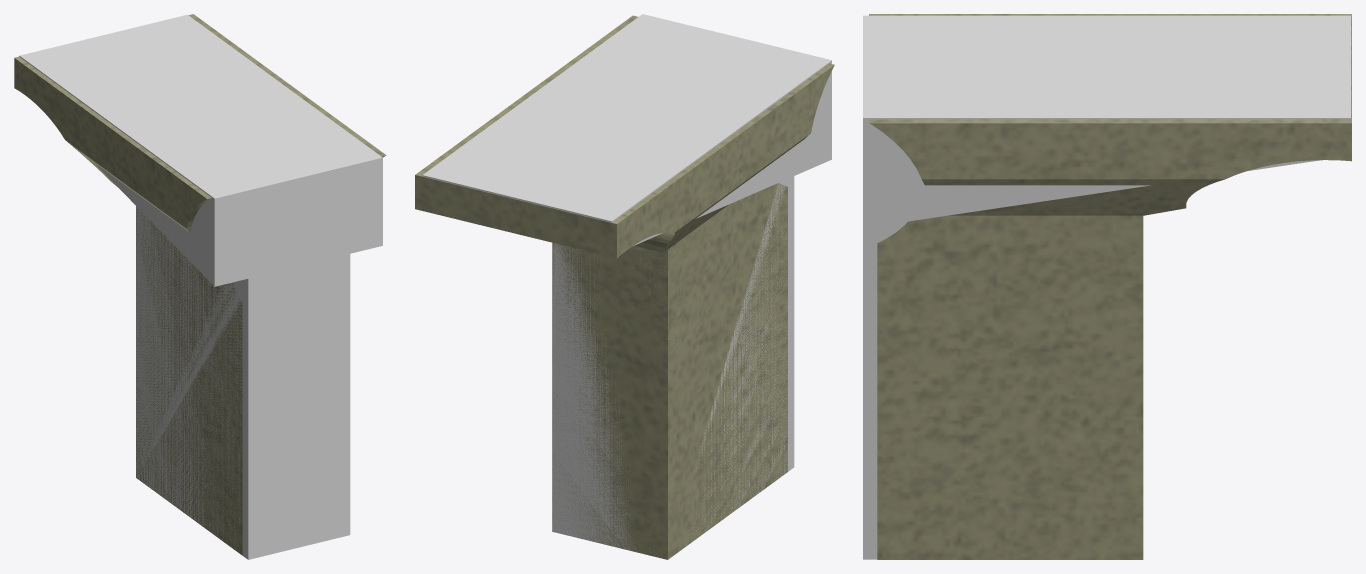
The model's file is OneBreak.gltf.
3 views of the same model, side by side, from view 1: azimuth 30°, elevation 25°; view 2: azimuth 150°, elevation 25°; view 3: azimuth 270°, elevation 25° (orthographic). The views are drawn at different scales.
Parts seen in each view (by area): view 1: COL, Cube; view 2: Cube, COL; view 3: Cube, COL.
Part boxes in pixels (left/top/right/bottom): COL: left=19, top=14, right=382, bottom=559; Cube: left=14, top=14, right=386, bottom=555; Cube: left=415, top=15, right=834, bottom=559; COL: left=422, top=14, right=831, bottom=554; Cube: left=869, top=14, right=1351, bottom=559; COL: left=863, top=15, right=1350, bottom=559.
Size of the model in its own units: 1.85 by 3.63 by 3.49.
Materials: 1 (1 with a texture image).
